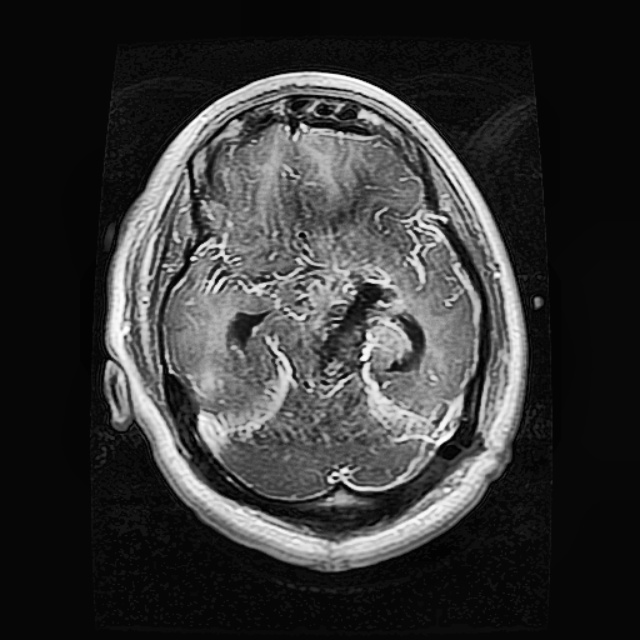Glioma: (312, 277, 425, 392)
